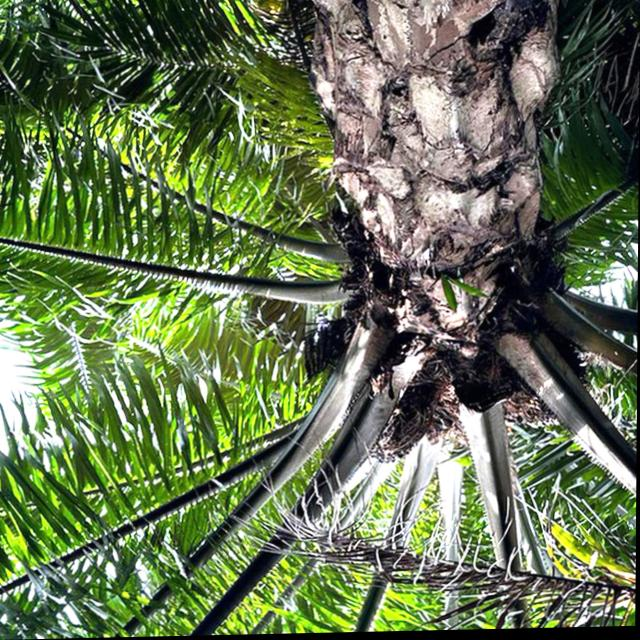almost: (362, 397, 434, 470)
